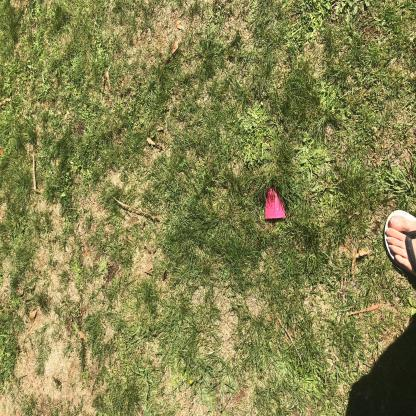trash: (143, 350, 174, 384)
